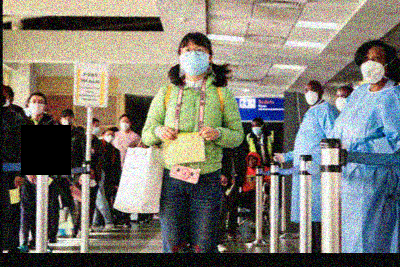with_mask: (179, 44, 210, 77), (361, 52, 385, 85), (28, 99, 46, 116), (304, 87, 319, 107), (335, 94, 349, 113), (59, 116, 74, 129), (119, 119, 131, 133), (252, 124, 263, 136), (104, 133, 114, 144), (91, 124, 100, 136)
without_mask: (248, 158, 256, 168)
